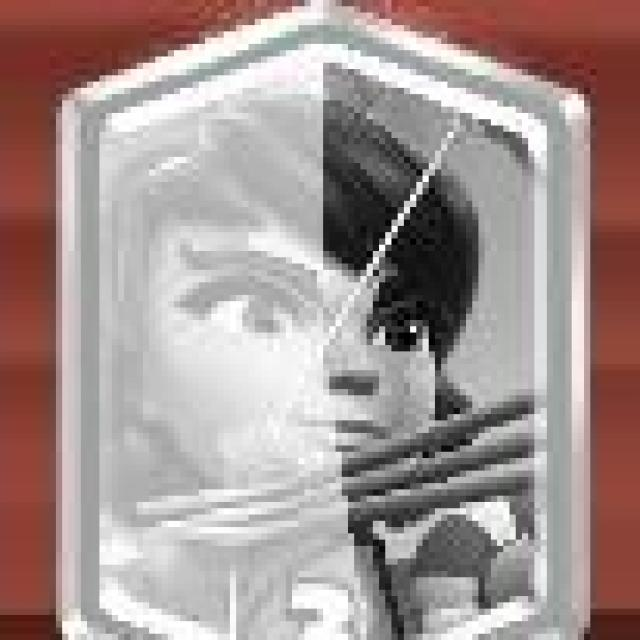Princess: (72, 9, 595, 640)
